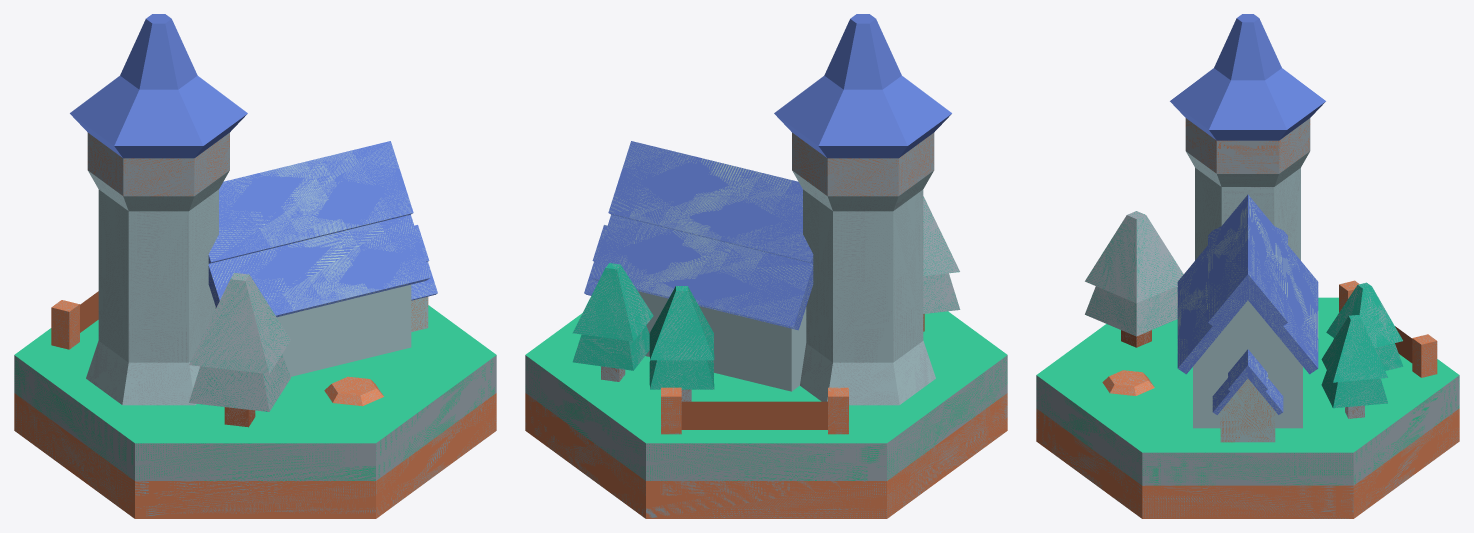
The model's file is Church.fbx.
3 renders of one model, left to right at view 1: azimuth 30°, elevation 25°; view 2: azimuth 150°, elevation 25°; view 3: azimuth 270°, elevation 25°, orthographic. The views are drawn at different scales.
Visible parts, largest first — view 1: Group1, Group2, Group5, Group4, Group7, Group8, Group11, Group6; view 2: Group1, Group2, Group5, Group4, Group8, Group10, Group9, Group7; view 3: Group1, Group2, Group4, Group5, Group7, Group6, Group10, Group9, Group8, Group11.
Boxes of the visible parts, box(x1,y1,x2,y2) form: Group1: box(14, 305, 496, 518); Group2: box(208, 141, 430, 376); Group5: box(86, 132, 229, 405); Group4: box(70, 14, 247, 158); Group7: box(189, 273, 290, 427); Group8: box(51, 291, 98, 349); Group11: box(324, 376, 383, 406); Group6: box(411, 225, 437, 331); Group1: box(525, 311, 1007, 518); Group2: box(591, 141, 813, 391); Group5: box(792, 132, 935, 405); Group4: box(774, 14, 951, 158); Group8: box(661, 387, 848, 434); Group10: box(572, 263, 653, 381); Group9: box(649, 286, 714, 401); Group7: box(923, 196, 960, 331); Group1: box(1036, 297, 1459, 518); Group2: box(1177, 194, 1318, 428); Group4: box(1170, 14, 1325, 140); Group5: box(1185, 118, 1310, 260); Group7: box(1085, 211, 1183, 347); Group6: box(1212, 349, 1283, 442); Group10: box(1321, 315, 1387, 418); Group9: box(1326, 282, 1403, 370); Group8: box(1339, 280, 1437, 377); Group11: box(1102, 370, 1154, 395).
Size of the model in its own units: 1 by 1.15 by 1.15.
